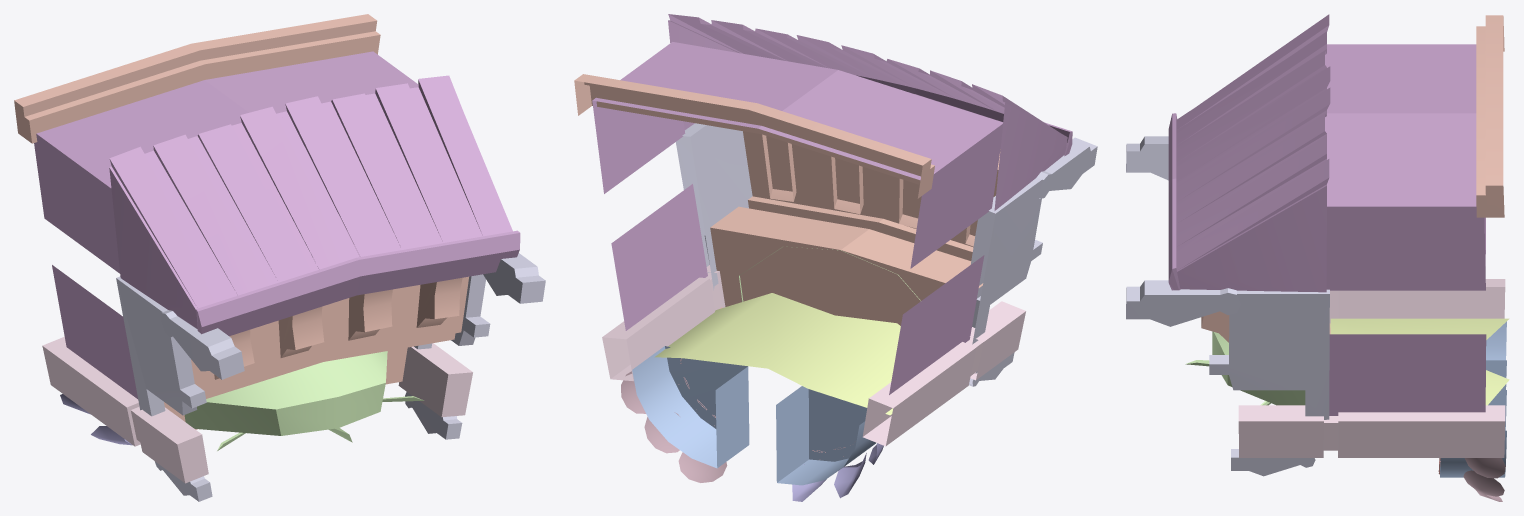
3 renders of one model, left to right at view 1: azimuth 30°, elevation 25°; view 2: azimuth 150°, elevation 25°; view 3: azimuth 270°, elevation 25°, orthographic.
Parts seen in each view (by area): view 1: Object114; view 2: Object114; view 3: Object114.
Part boxes in pixels (left/top/right/bottom): Object114: left=14, top=14, right=545, bottom=501; Object114: left=574, top=14, right=1097, bottom=501; Object114: left=1126, top=14, right=1509, bottom=501.
Bounding box in the file's own units: 49277 × 52564 × 46876.
